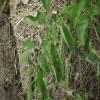Potato leaf early blight: (49, 41, 65, 85), (58, 24, 75, 54), (77, 13, 91, 48), (35, 68, 50, 100), (20, 39, 37, 64), (23, 11, 47, 28), (83, 27, 93, 60), (40, 51, 53, 75)
